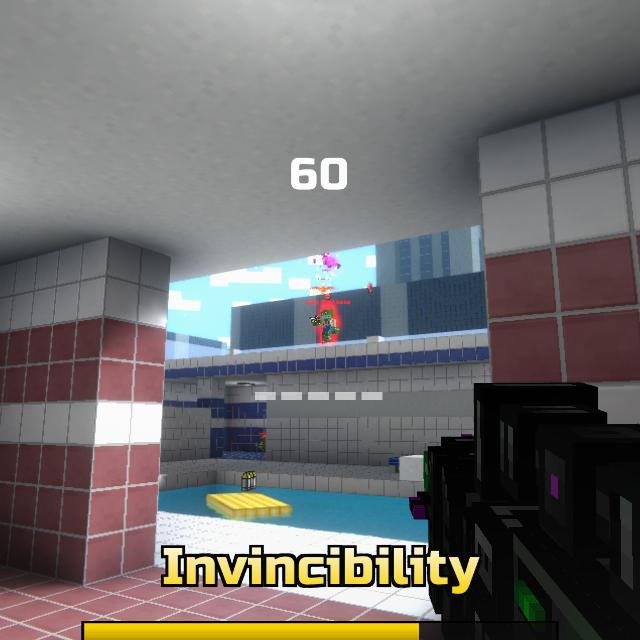Enemy: (313, 309, 336, 342)
